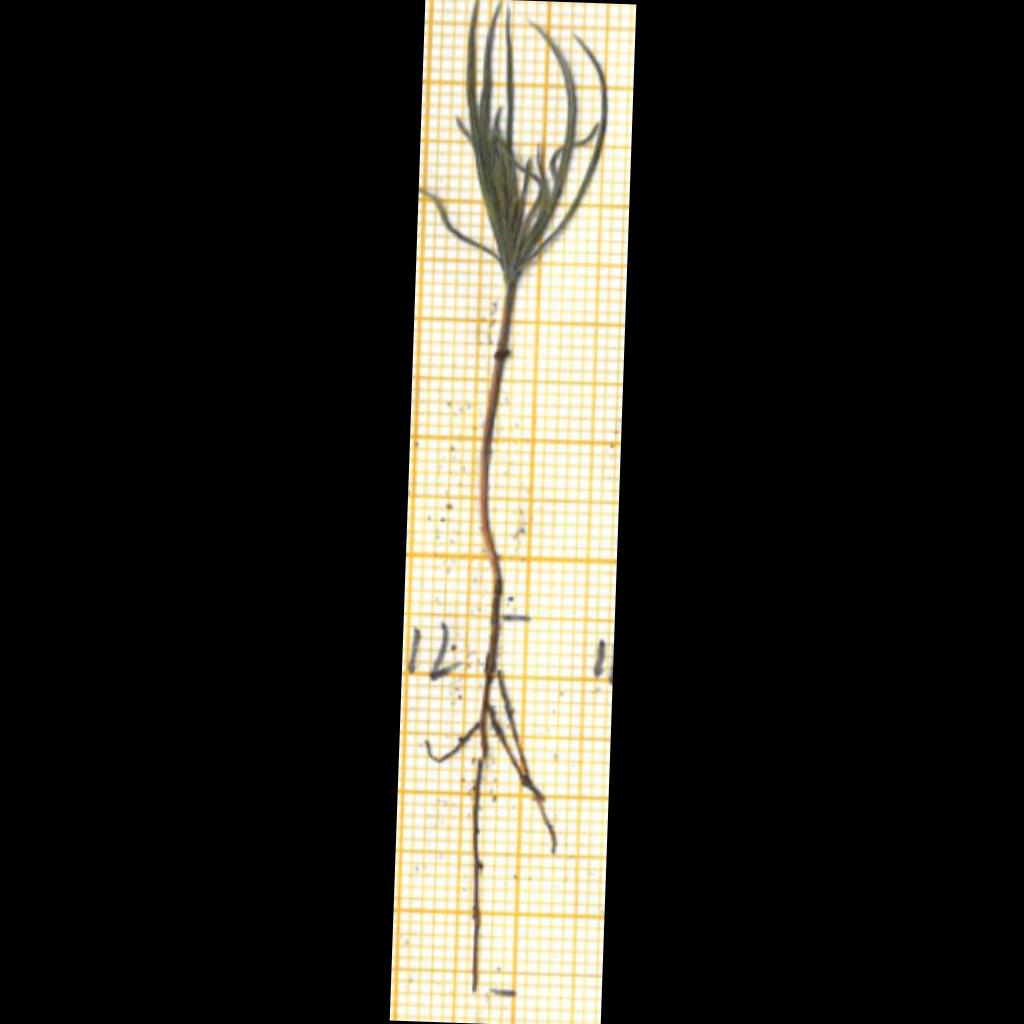flowerPinus: (419, 0, 607, 284)
rootPinus: (427, 627, 556, 991)
stemPinus: (480, 287, 515, 621)
